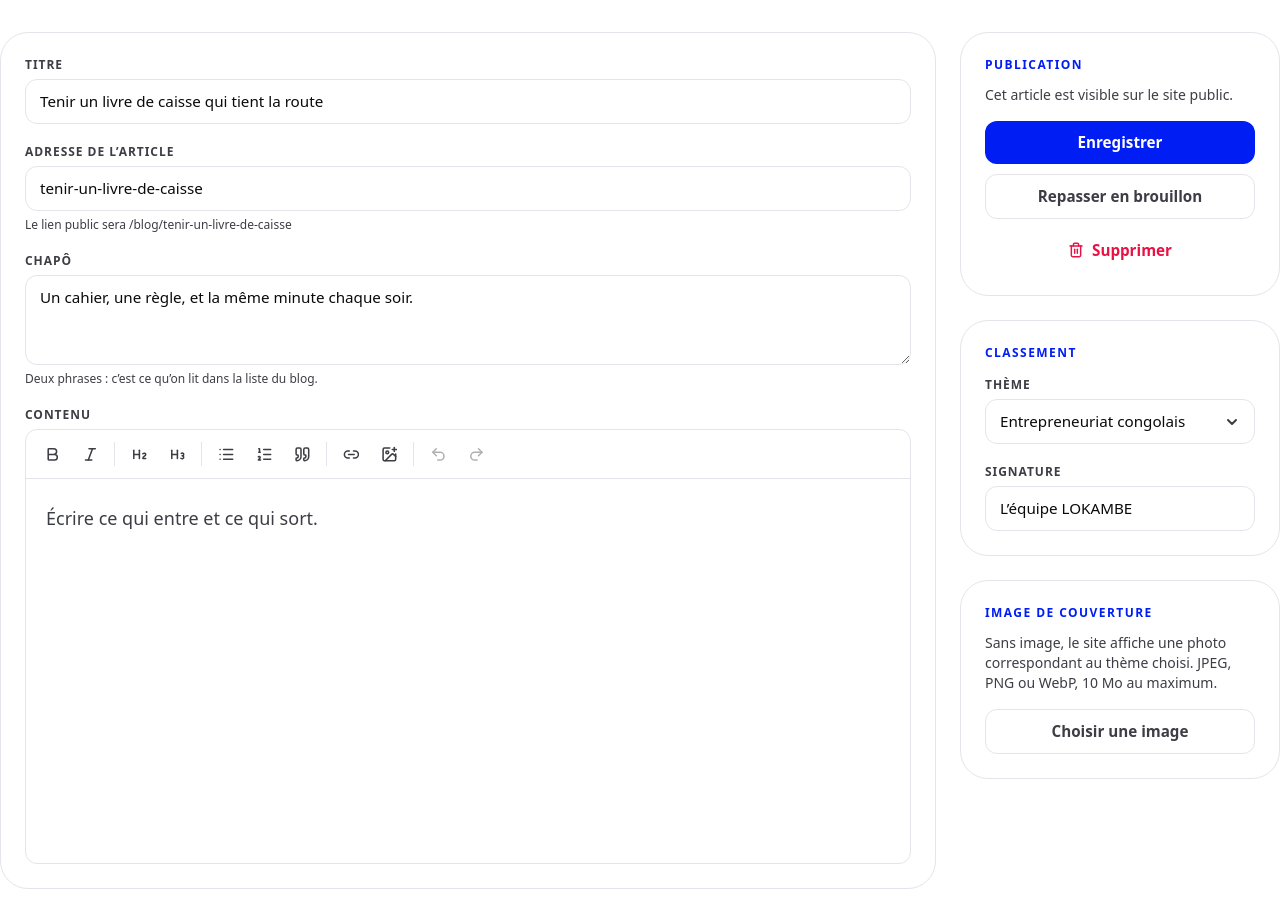
Test: ArticleForm › dit ce qu’il faut faire quand la session a expiré
Click the button "Enregistrer": (1120, 142) x1=985 y1=121 x2=1255 y2=164
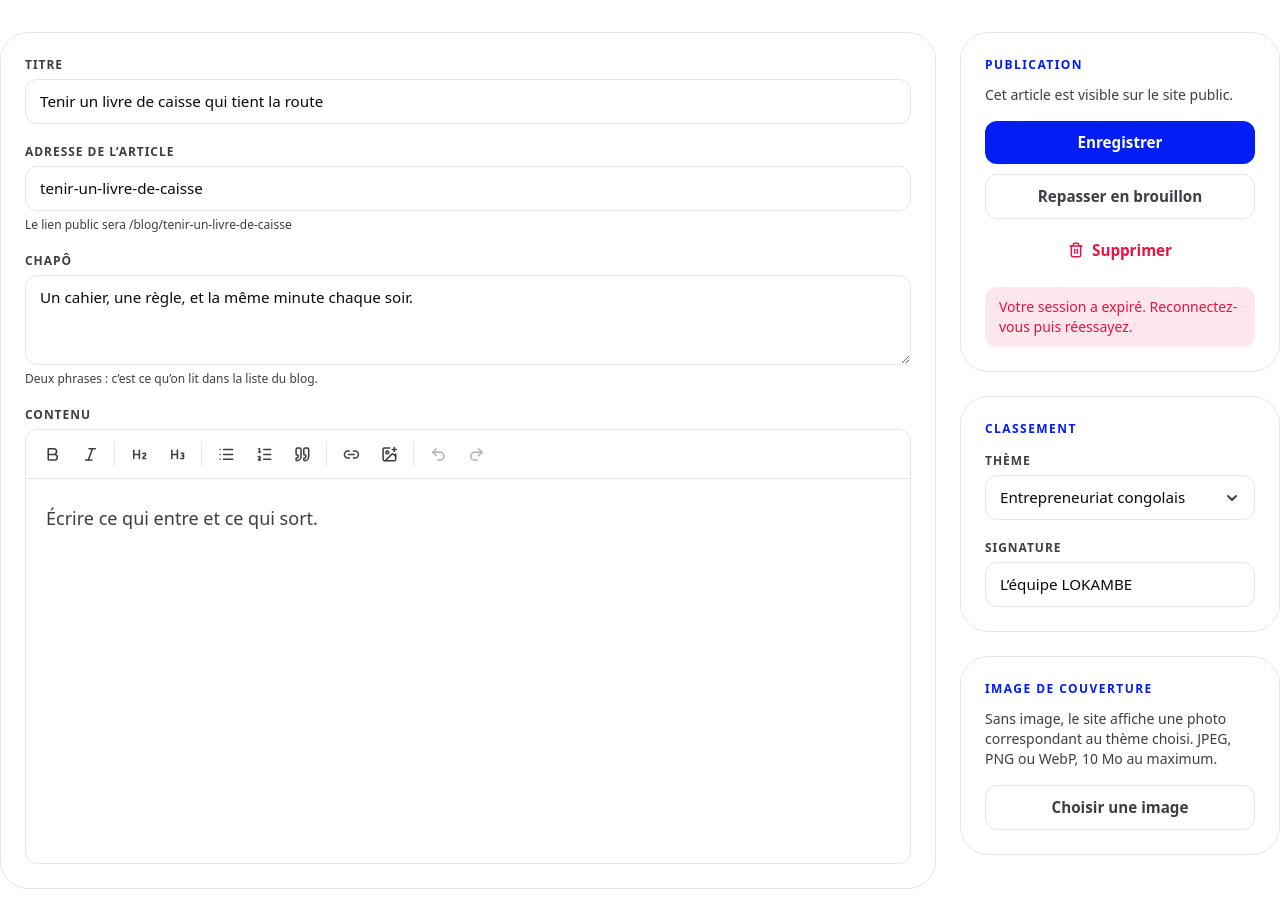
Expected: the message shows "session a expiré", x1=999 y1=297 x2=1237 y2=336
